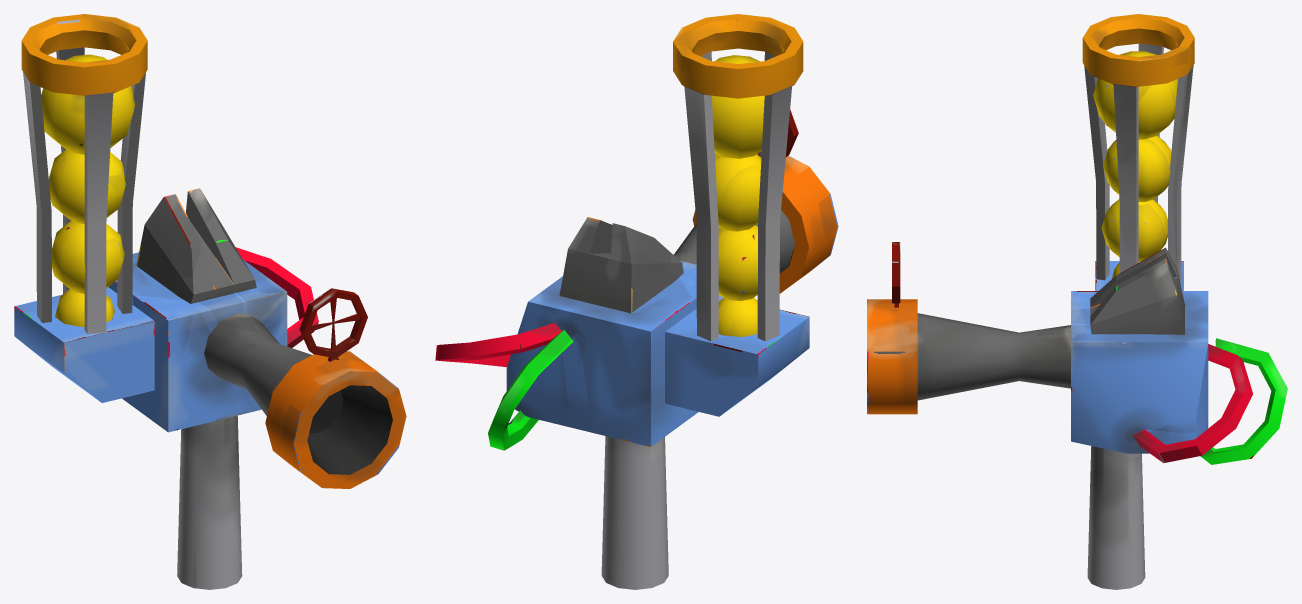
The model's file is TurretTop.fbx.
The picture shows the model from 3 angles, left to right: view 1: azimuth 30°, elevation 25°; view 2: azimuth 150°, elevation 25°; view 3: azimuth 270°, elevation 25°; orthographic projection. The views are drawn at different scales.
Visible parts, largest first — view 1: TurretTop; view 2: TurretTop; view 3: TurretTop.
Boxes of the visible parts, x1=… form: TurretTop: x1=14, y1=14, x2=406, y2=589; TurretTop: x1=435, y1=14, x2=838, y2=589; TurretTop: x1=867, y1=14, x2=1287, y2=589.
Bounding box in the file's own units: 113 × 190 × 147.
